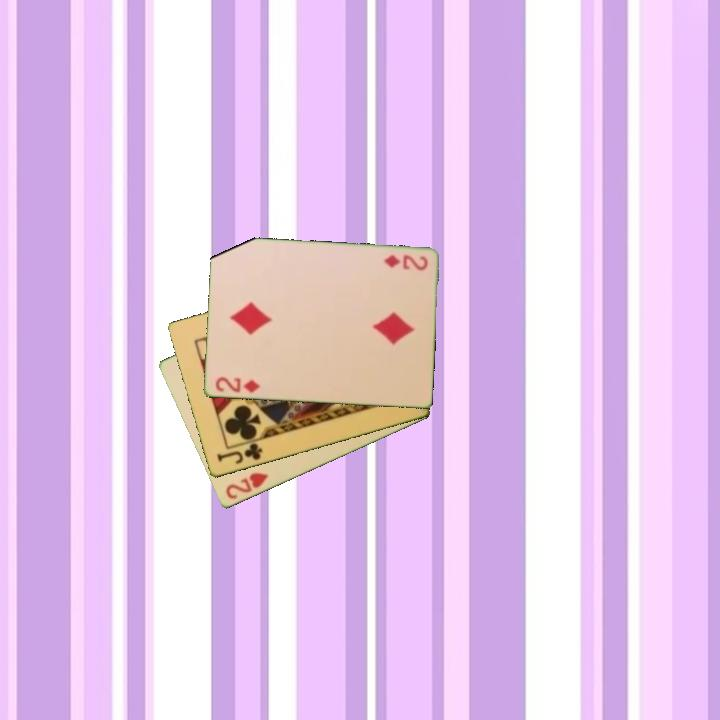2d: (380, 251, 430, 273), (212, 374, 262, 395)
2h: (222, 469, 272, 503)
Jc: (213, 440, 265, 467)
